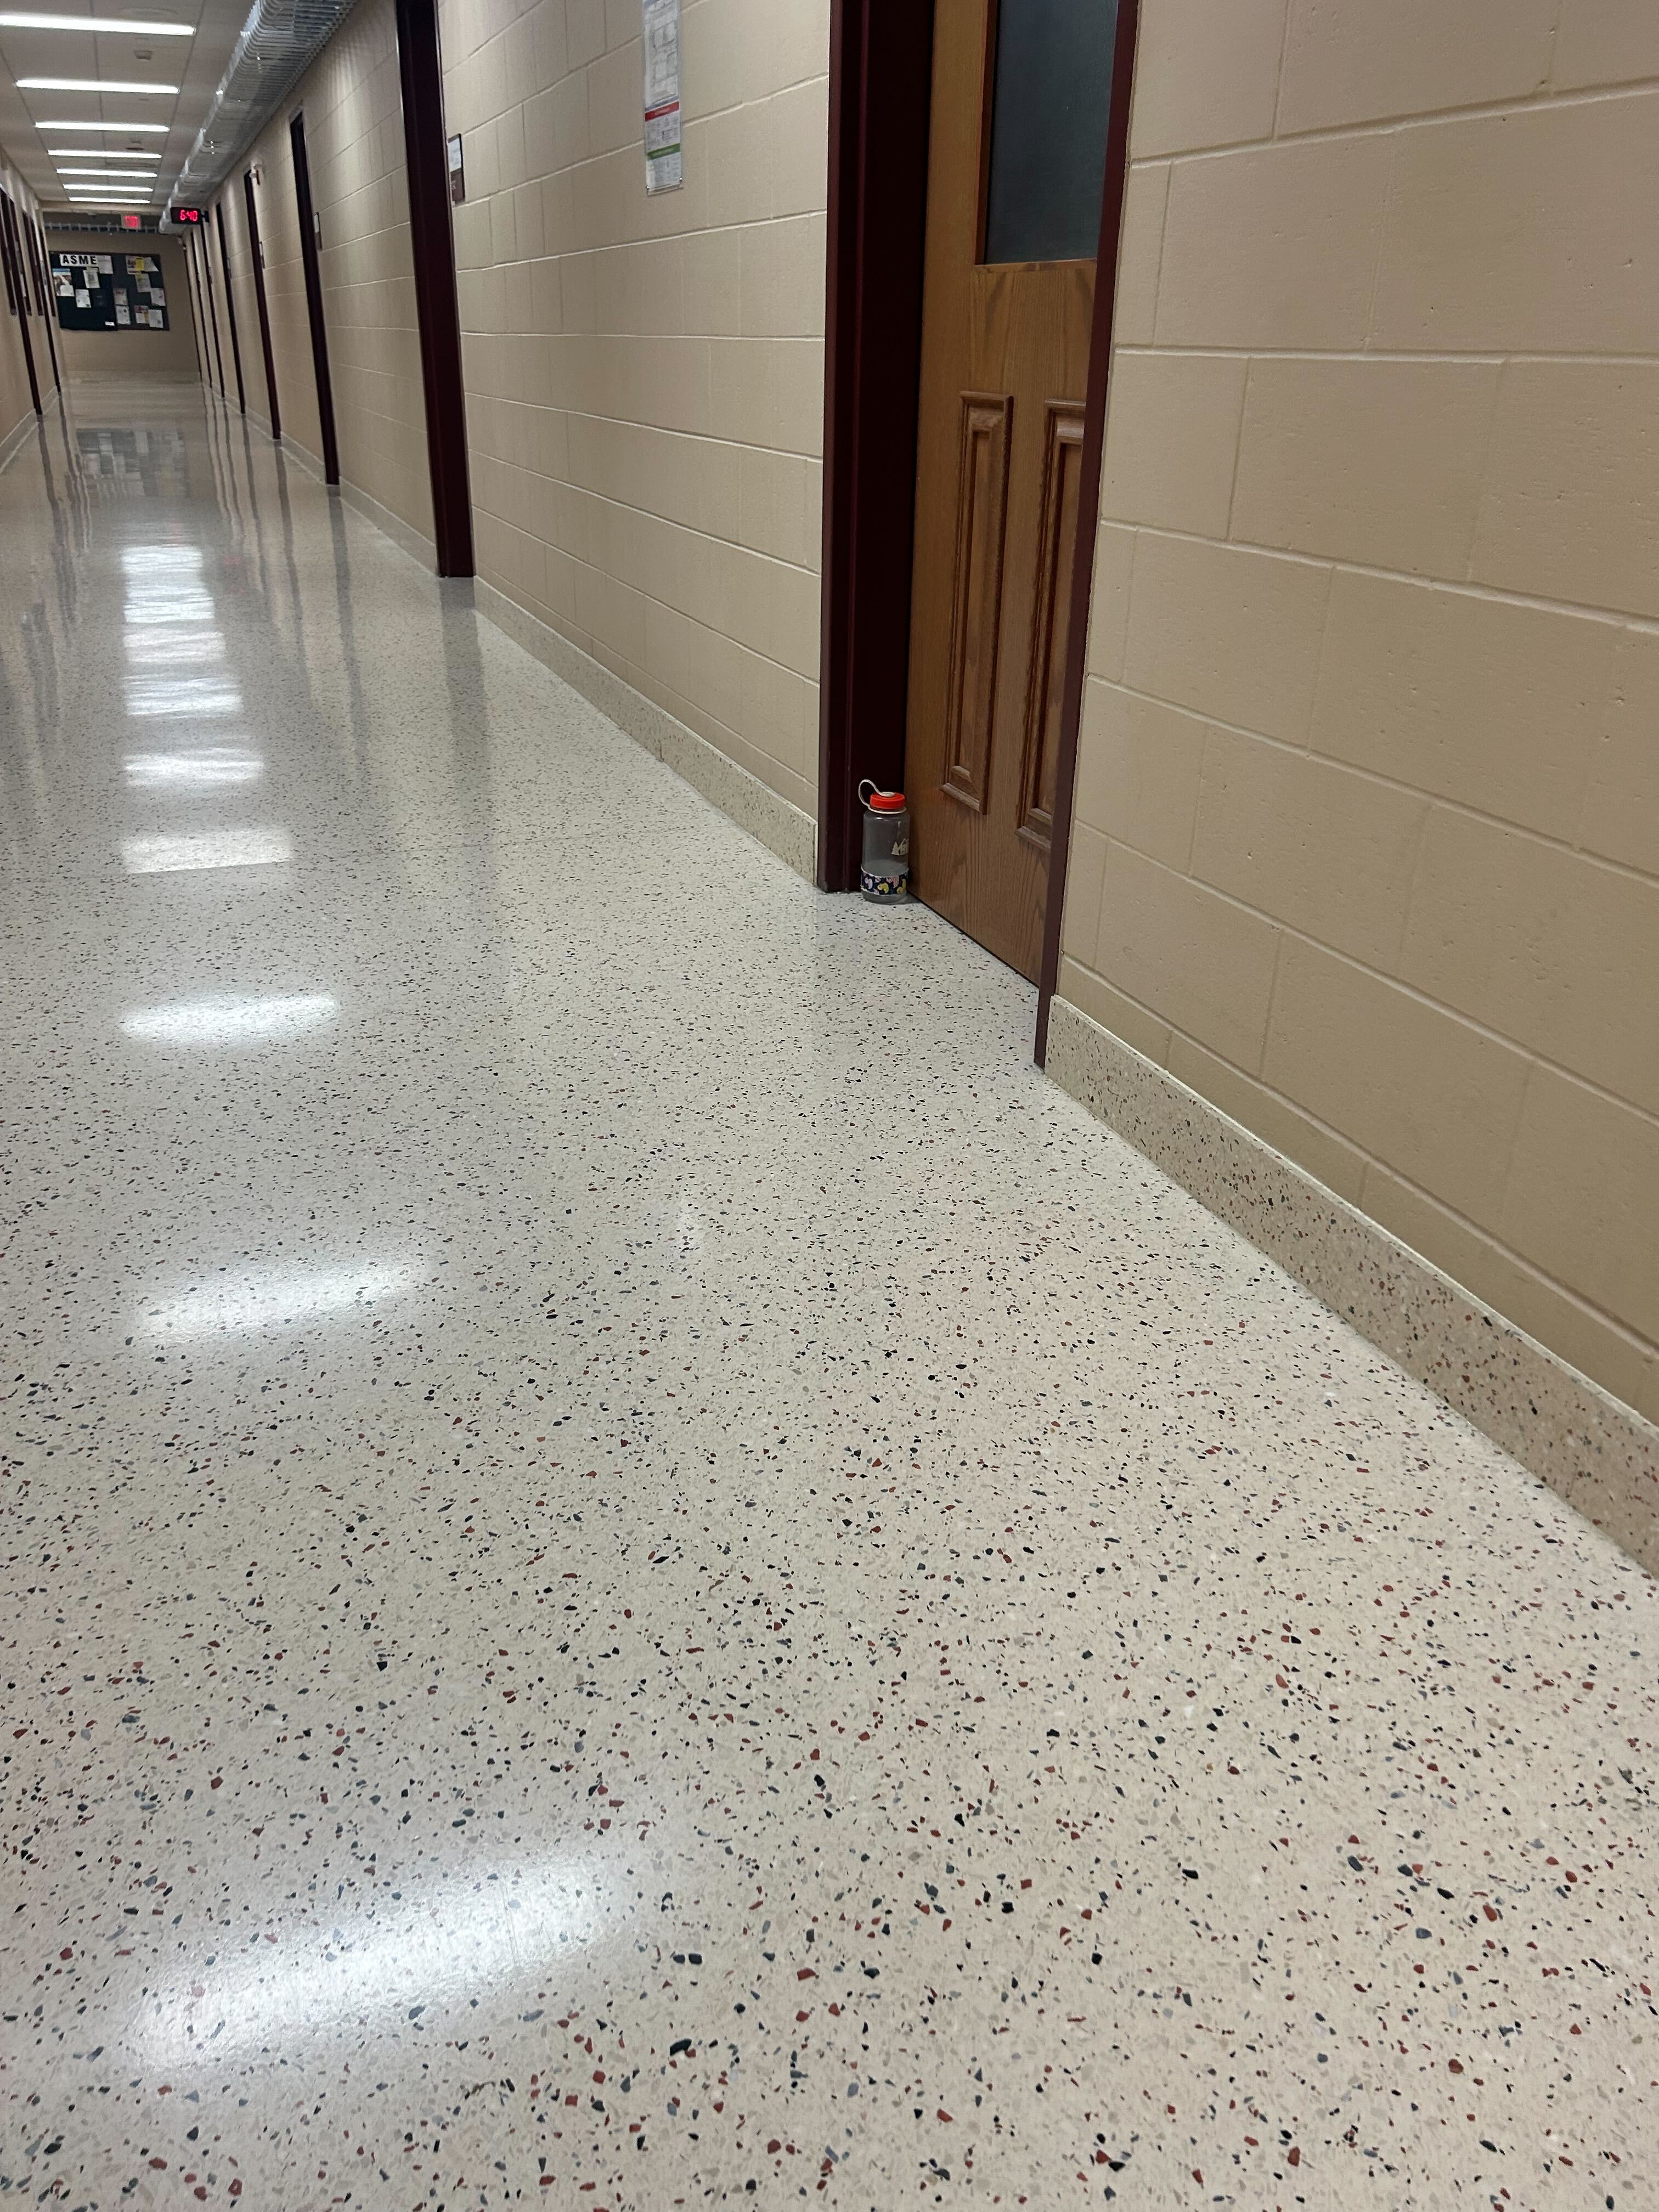bottle: (852, 763, 911, 913)
